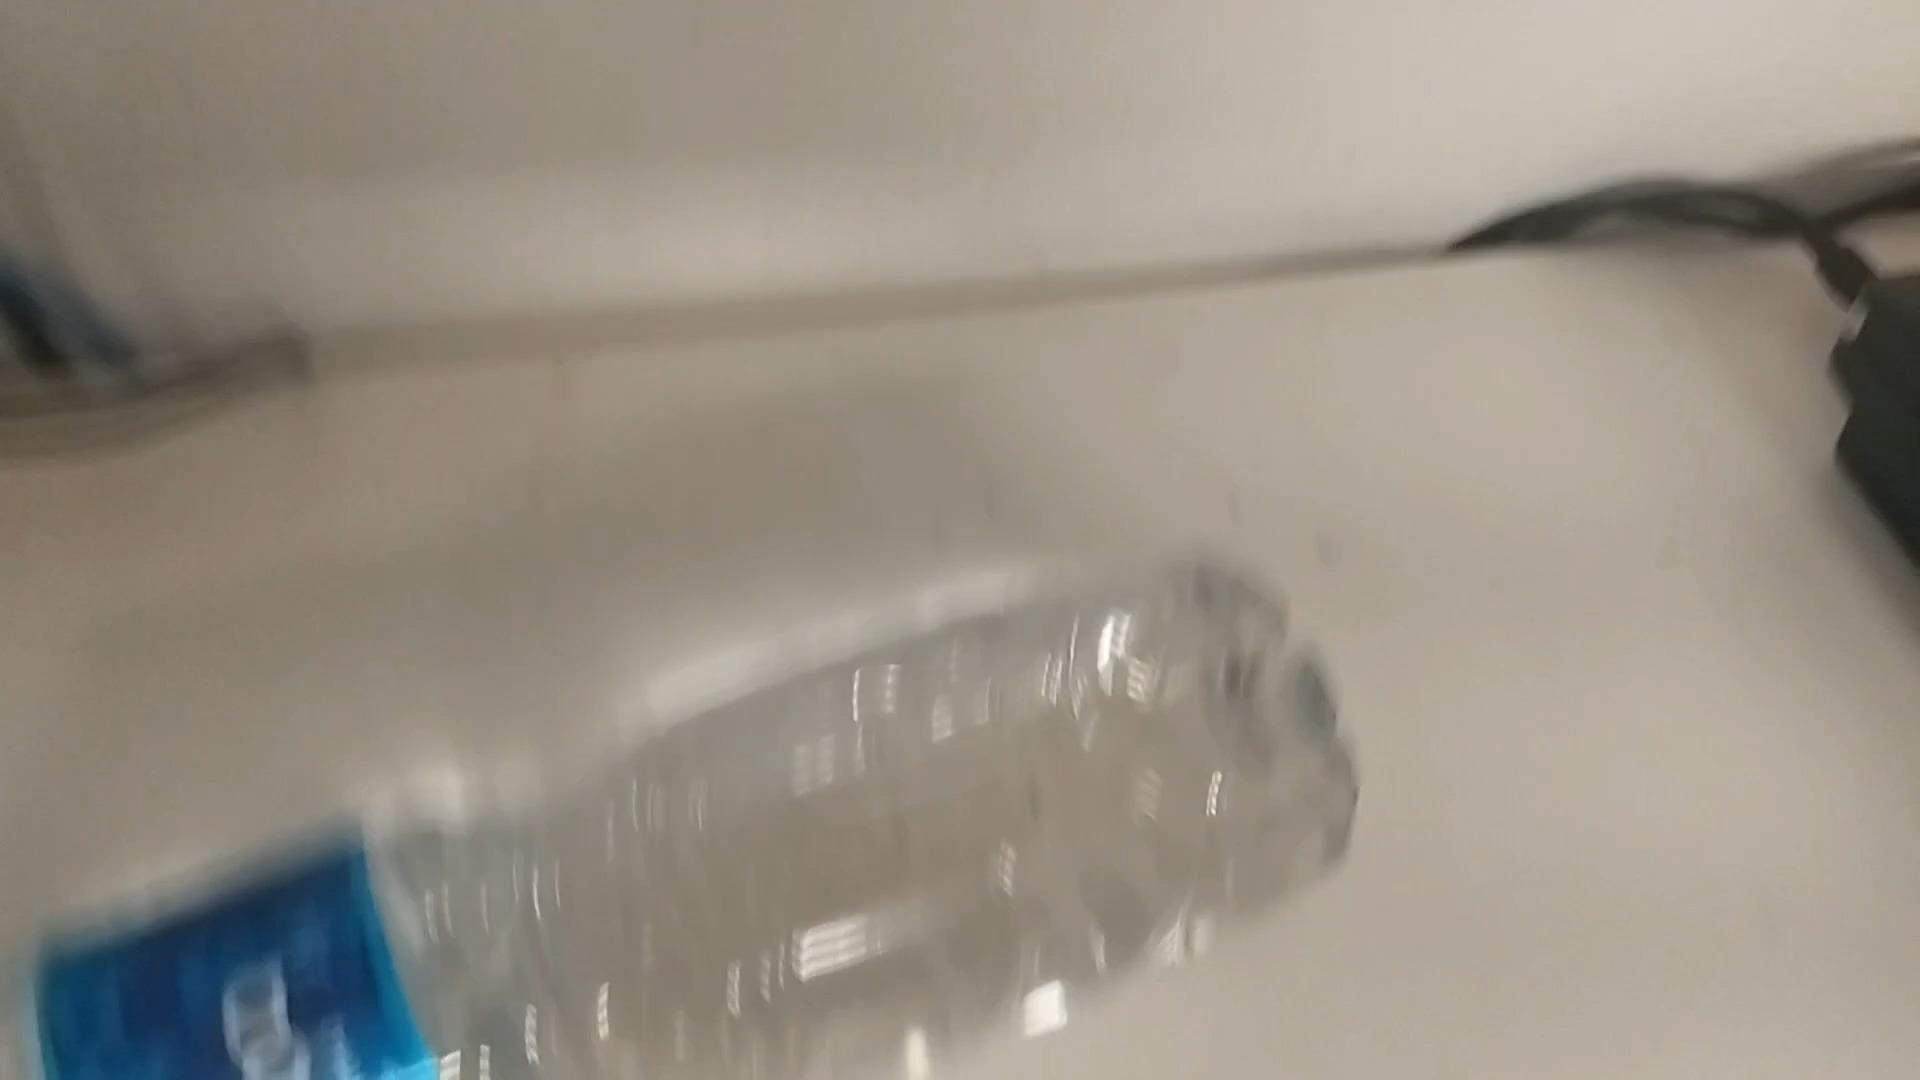agua: (0, 551, 1375, 1080)
